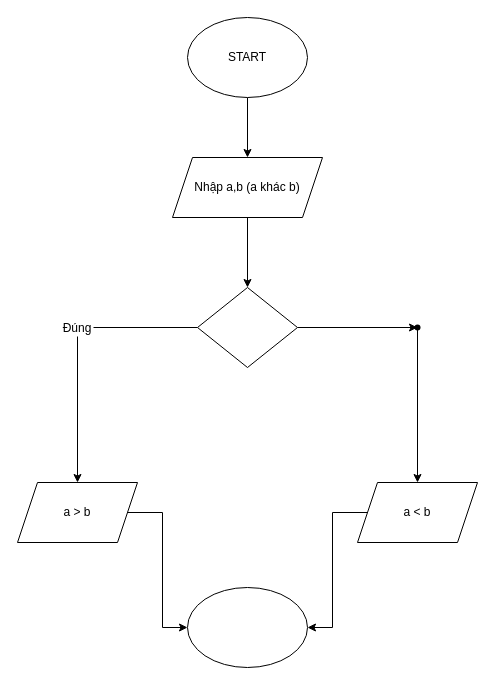
The diagram is 495 pixels wide and 685 high, and some of its shapes have lost their labels. The centre of each missing label's shape, as x and y in pixels:
END: (247,627)
Kiểm tra a > b: (247,327)
Sai: (417,327)
